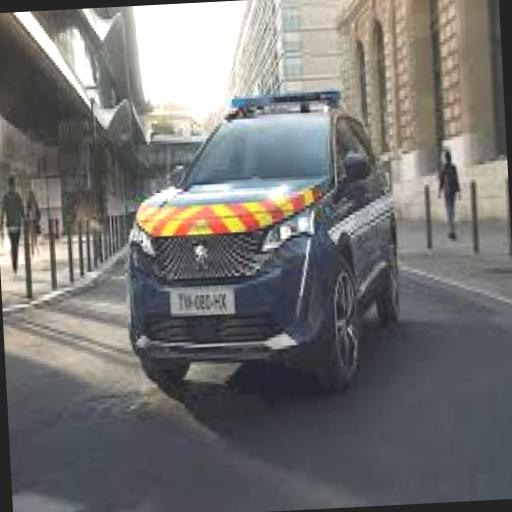Ambulance: (112, 82, 403, 404)
